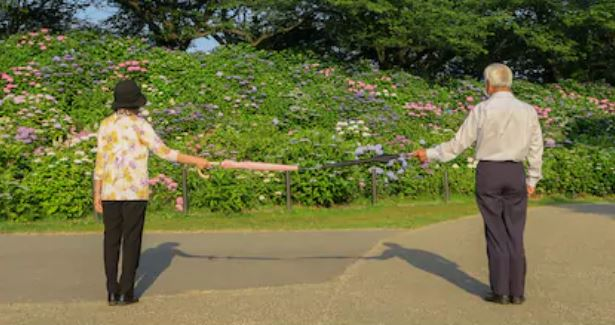Good: (94, 62, 545, 306)
